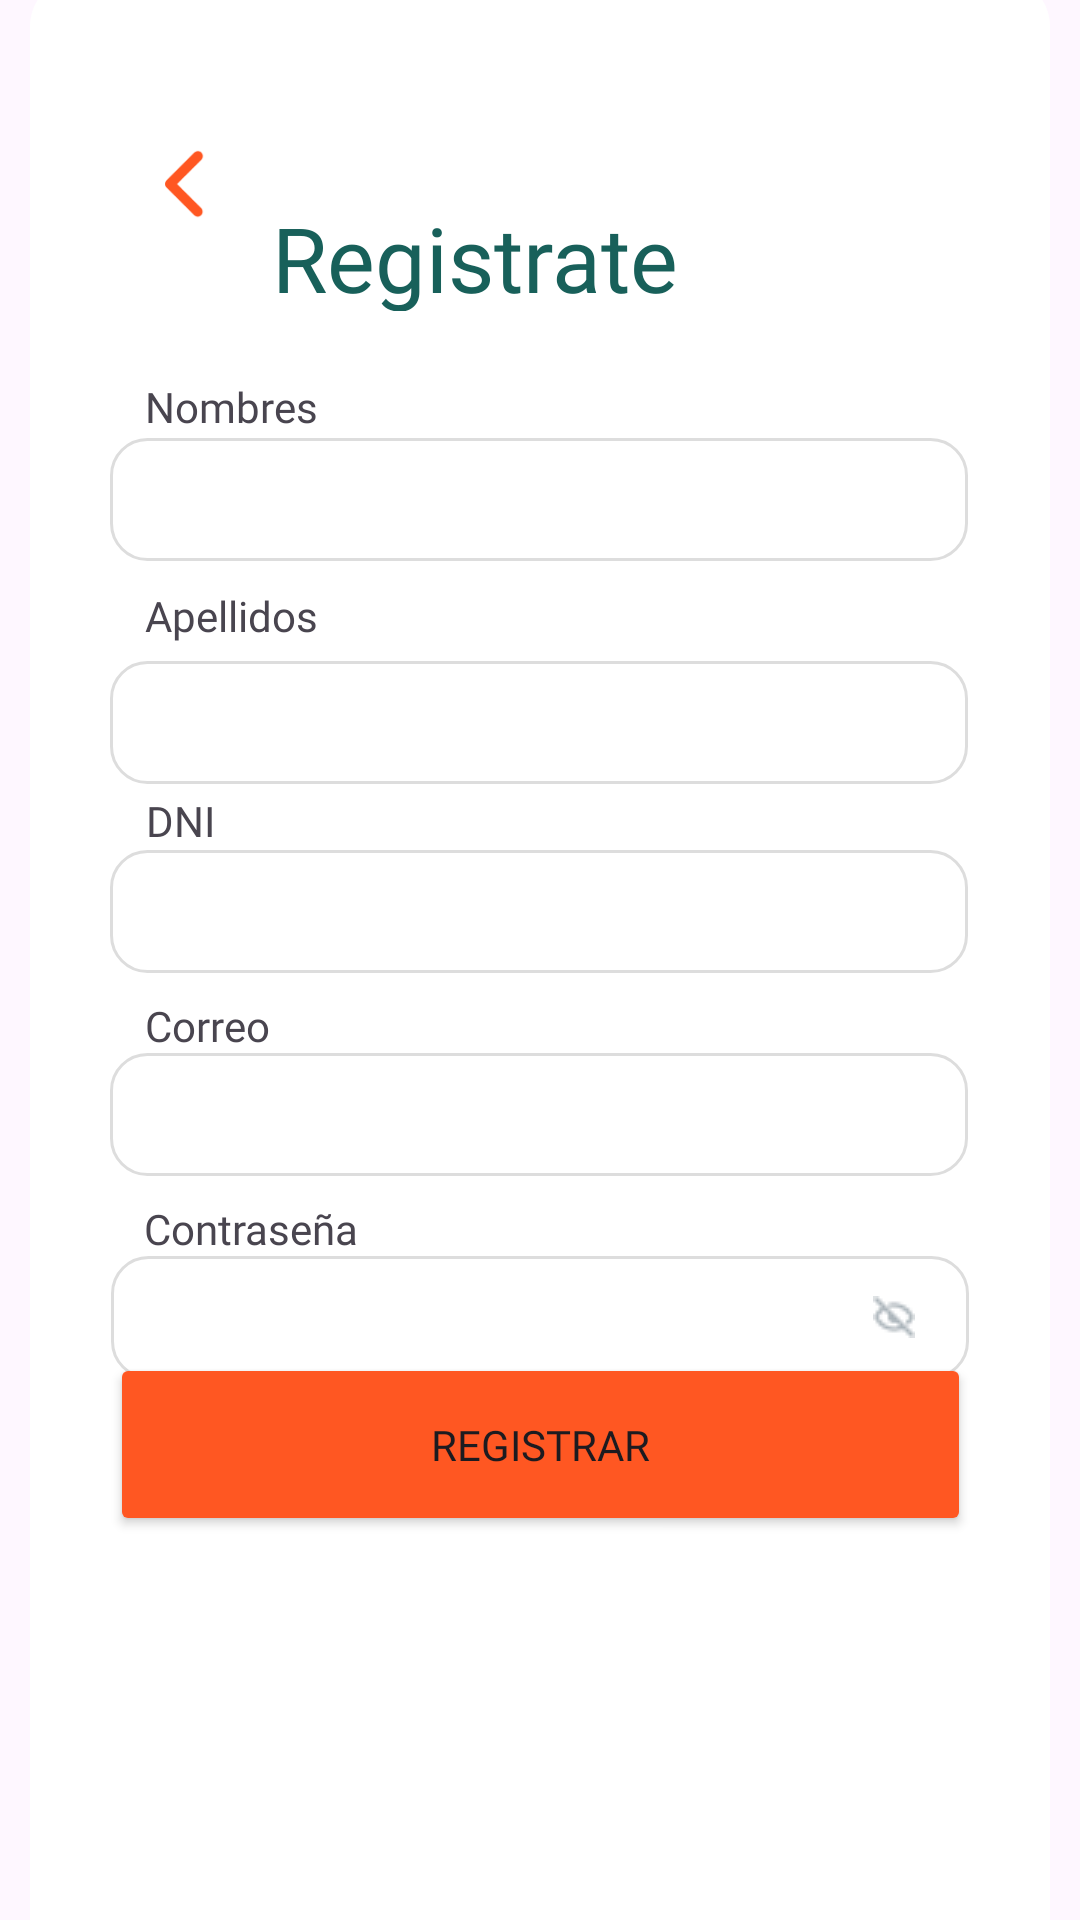

Screen size 1080px x 1920px. Icon name, then its center in pixels as [x,y]:
flecha atras: [184,184]
